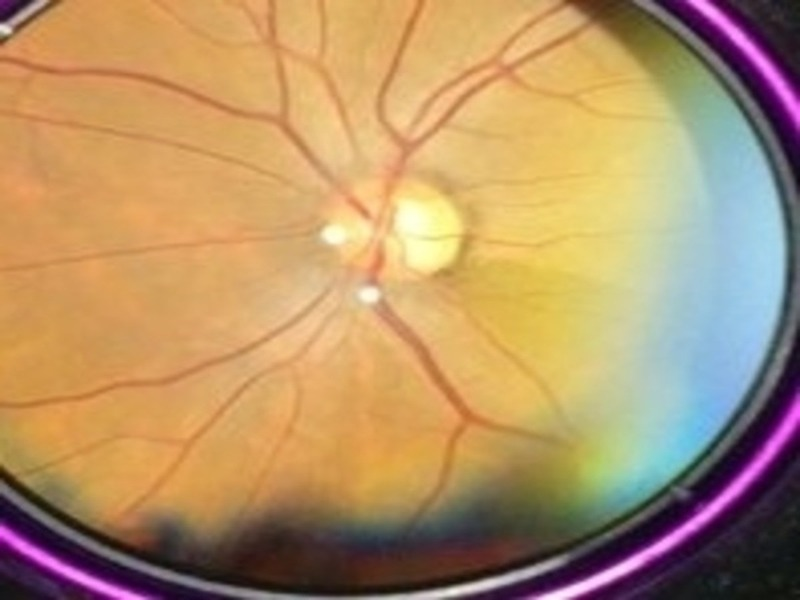Optic Cup: (398, 195, 469, 271)
Optic Disc: (328, 166, 408, 285)
